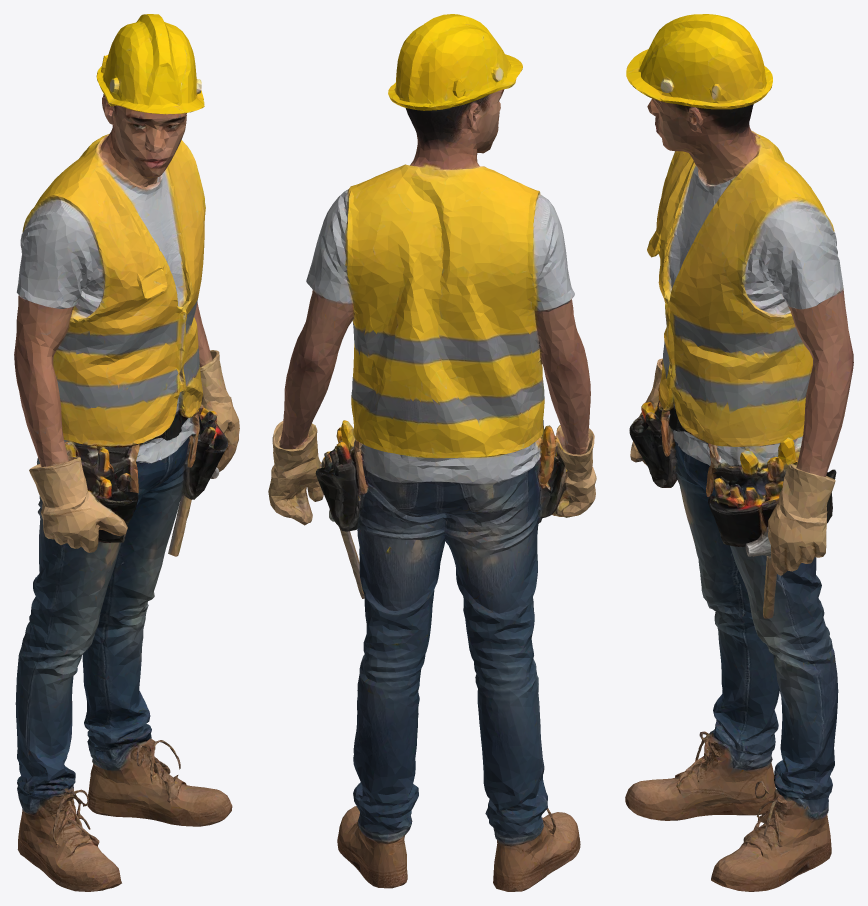
Rendered from cwork.glb.
3 renders of one model, left to right at view 1: azimuth 30°, elevation 25°; view 2: azimuth 150°, elevation 25°; view 3: azimuth 270°, elevation 25°, orthographic.
Visible parts, largest first — view 1: m.obj; view 2: m.obj; view 3: m.obj.
Part boxes in pixels (x1,y1,x2,y2): m.obj: (14,14,239,891); m.obj: (268,14,596,891); m.obj: (625,14,853,891).
Bounding box in the file's own units: 0.6272 × 1.9 × 0.4688.
Materials: 1 (1 with a texture image).
